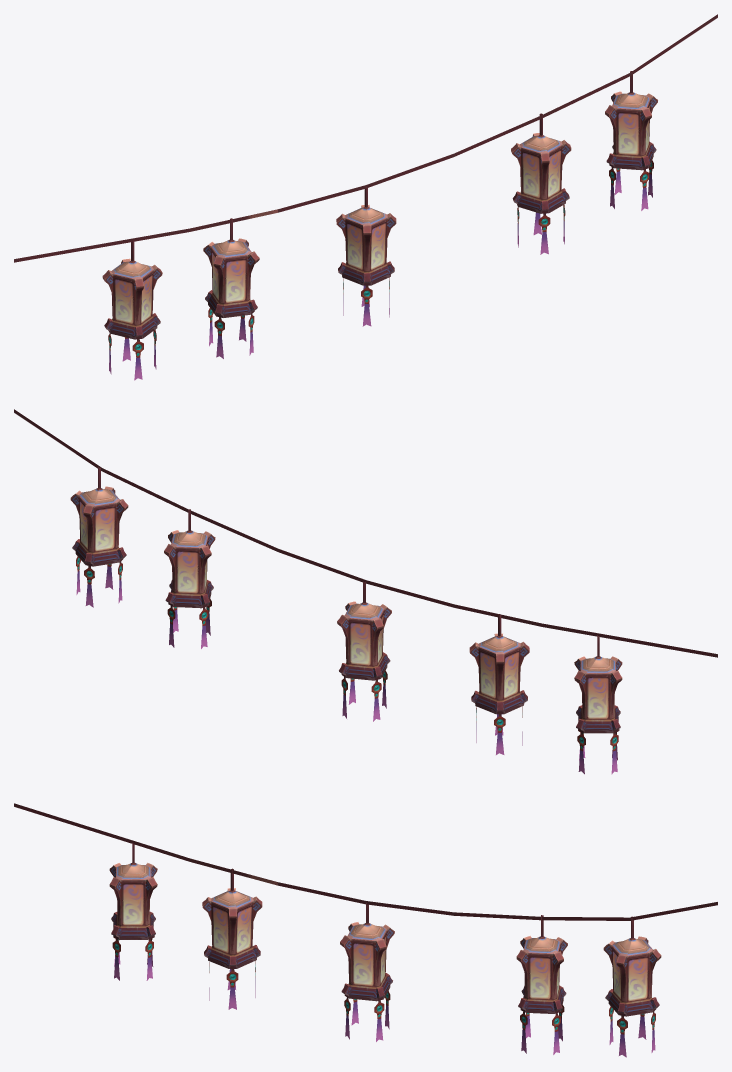
The model's file is cj_luoyang_denglong02_55_30_3471out.fbx.
3 views of the same model, one above another, from view 1: azimuth 30°, elevation 25°; view 2: azimuth 150°, elevation 25°; view 3: azimuth 330°, elevation 25° (orthographic).
Parts seen in each view (by area): view 1: cj_luoyang_denglong02; view 2: cj_luoyang_denglong02; view 3: cj_luoyang_denglong02.
Boxes of the visible parts, left/top/right/bottom form: cj_luoyang_denglong02: left=14, top=14, right=717, bottom=380; cj_luoyang_denglong02: left=14, top=409, right=717, bottom=774; cj_luoyang_denglong02: left=14, top=803, right=717, bottom=1057.
Size of the model in its own units: 23.91 by 7.06 by 1.78.
